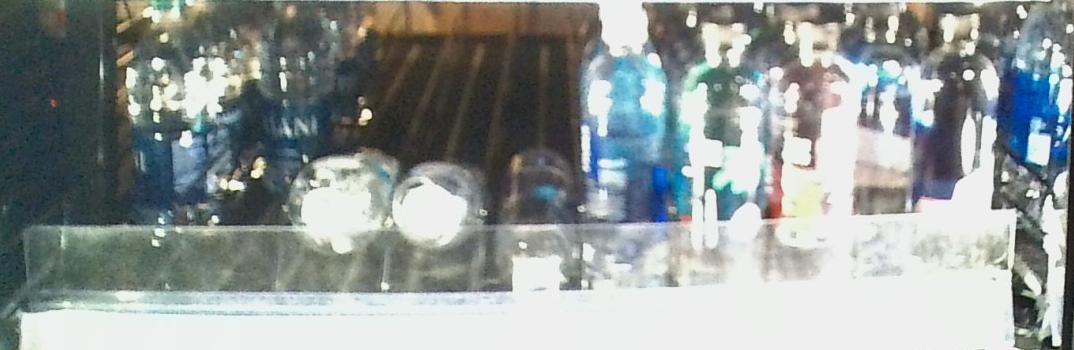bottle: (584, 22, 668, 286), (682, 18, 764, 282), (125, 1, 204, 263), (922, 5, 1000, 268), (777, 24, 851, 285), (855, 14, 912, 236), (254, 4, 320, 179), (383, 157, 482, 266), (494, 149, 565, 281), (300, 192, 373, 278)
